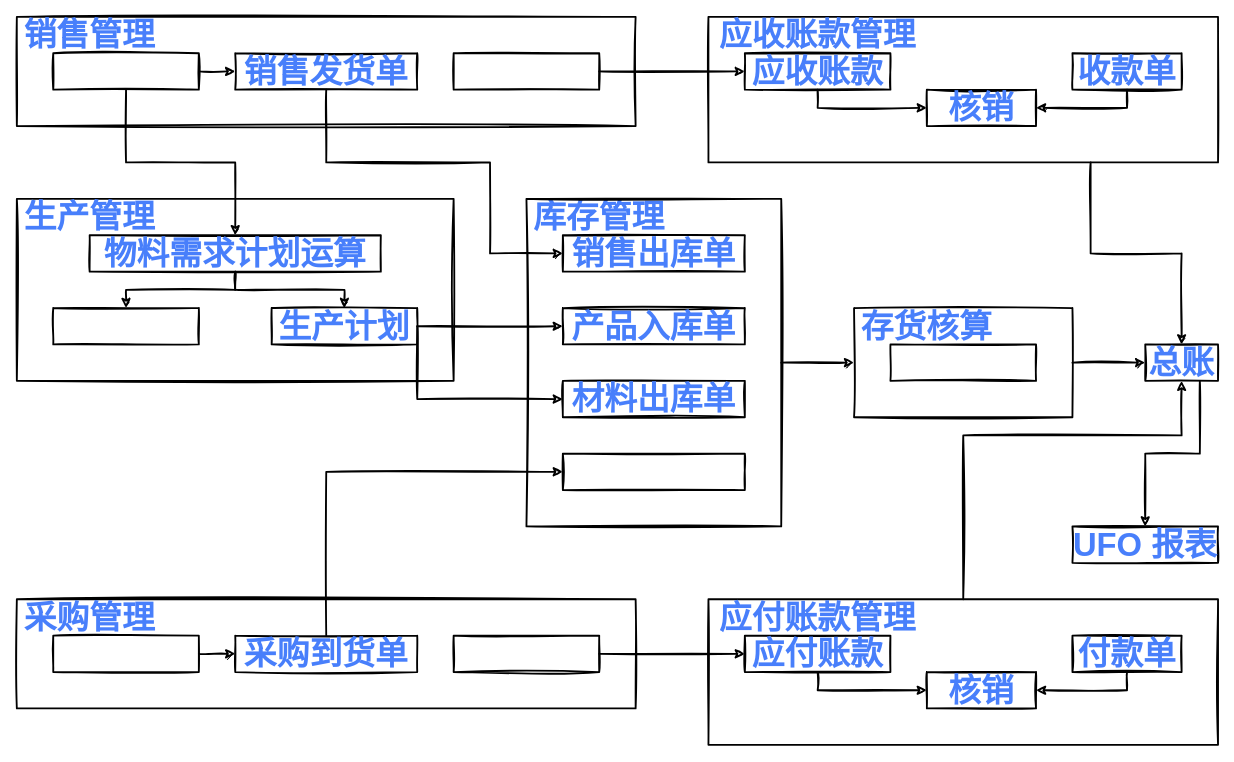
Image size: 1234x762. Some labels were removed from this diagram. Here are the shapes that lost their labels. From the top down, the centre of each, then its label:
the point at 125,71: 销售订单
the point at 526,71: 销售发票
the point at 125,326: 采购计划
the point at 962,362: 单据记账
the point at 653,471: 采购入库单
the point at 125,653: 采购订单
the point at 526,653: 采购发票
